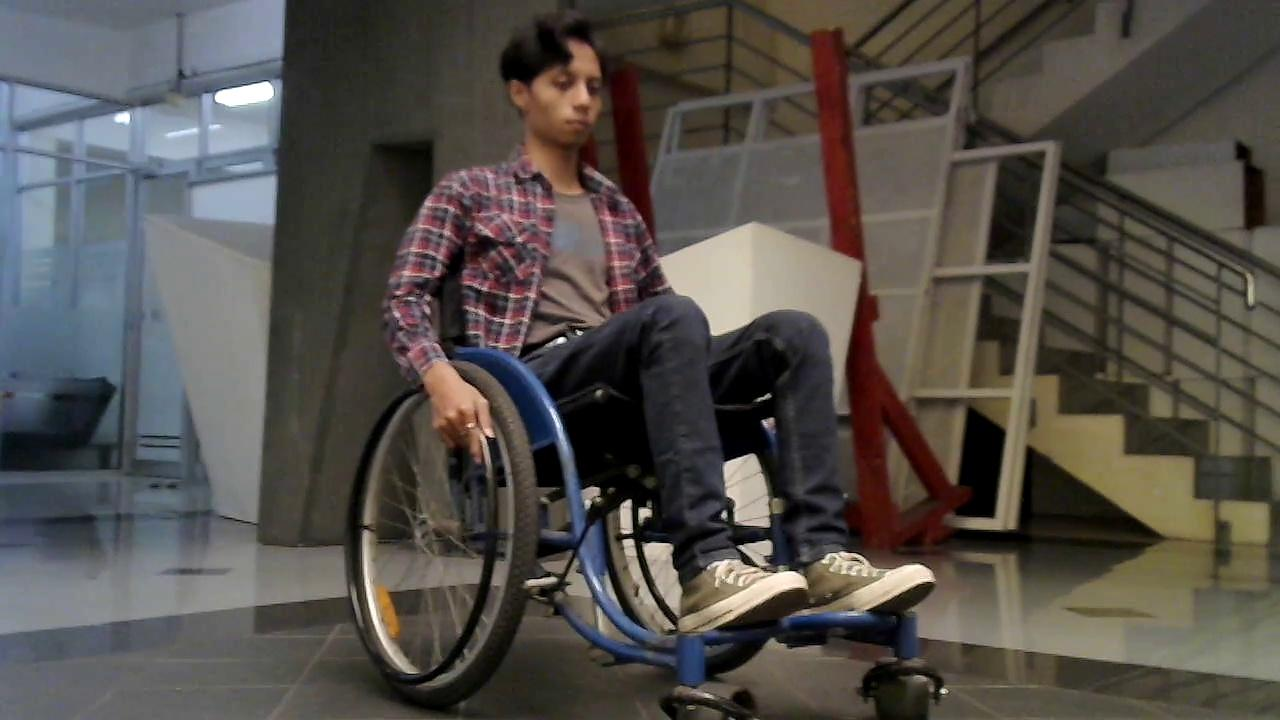person: (378, 14, 854, 627)
wheelchair: (331, 242, 967, 720)
